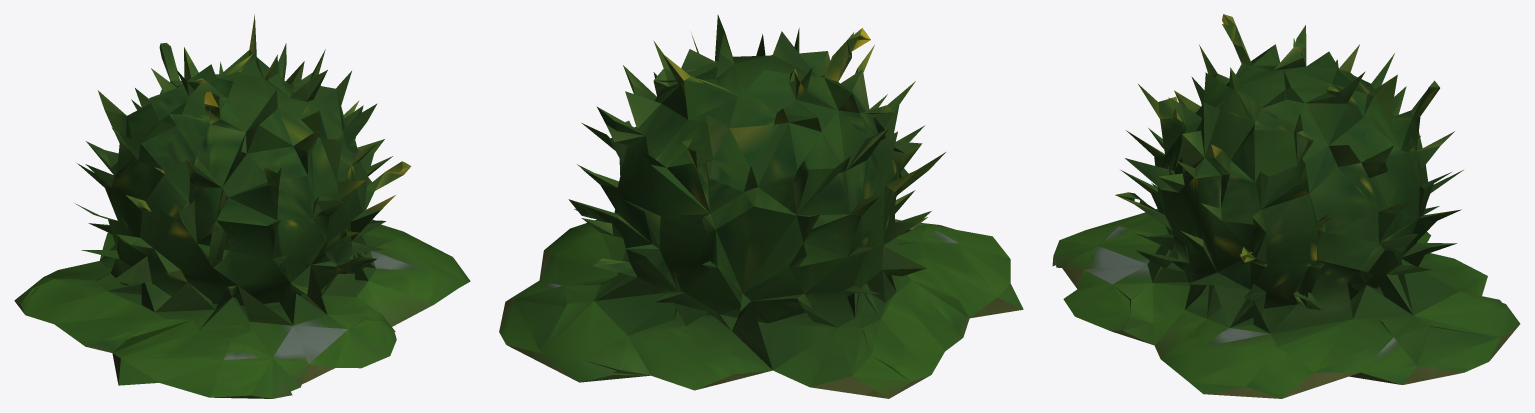
3 views of the same model, side by side, from view 1: azimuth 30°, elevation 25°; view 2: azimuth 150°, elevation 25°; view 3: azimuth 270°, elevation 25° (orthographic). The views are drawn at different scales.
Parts seen in each view (by area): view 1: shrub; view 2: shrub; view 3: shrub.
Boxes of the visible parts, x1=… form: shrub: x1=14, y1=14, x2=470, y2=398; shrub: x1=499, y1=15, x2=1023, y2=398; shrub: x1=1052, y1=14, x2=1520, y2=398.
Size of the model in its own units: 0.937 by 0.5787 by 0.953.
1 material, 1 textured.
